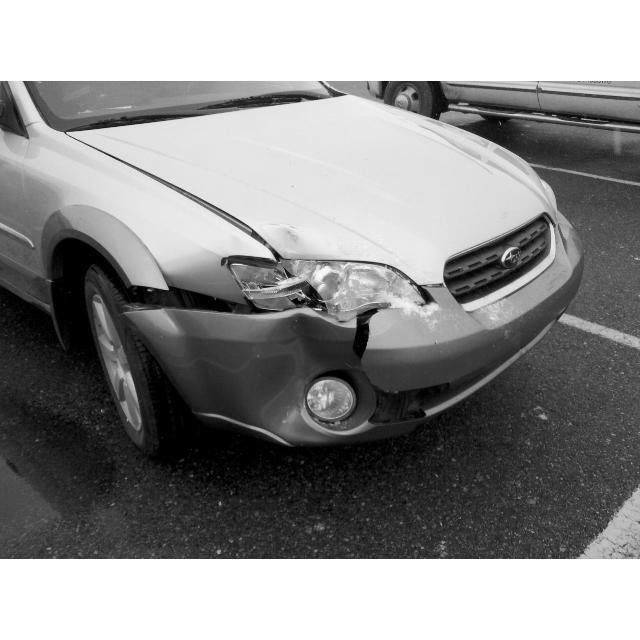Headlight-damage: (214, 223, 438, 333)
front-bumper-dent: (183, 304, 433, 444)
